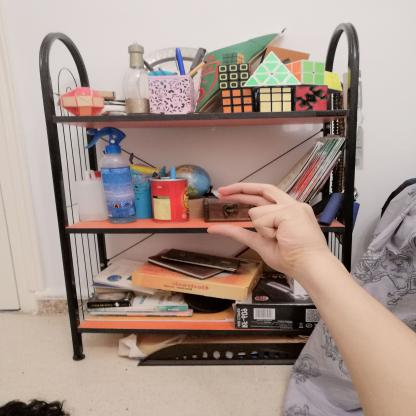DHELL: (198, 177, 332, 280)
